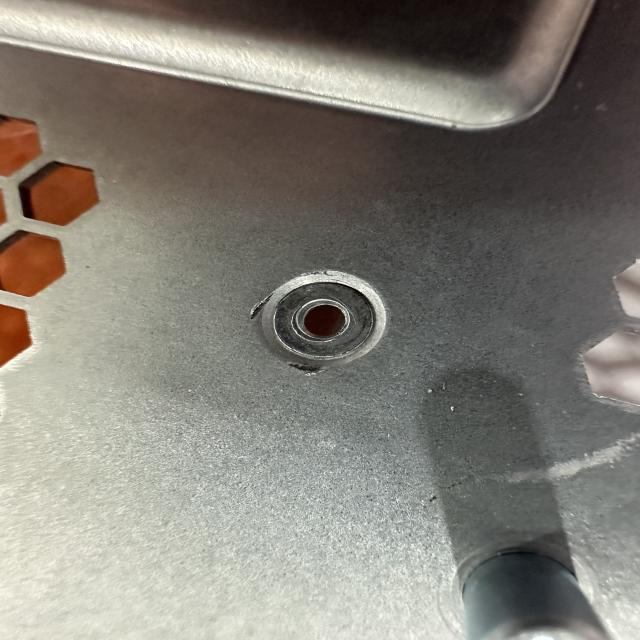Missing screw: (249, 264, 397, 374)
